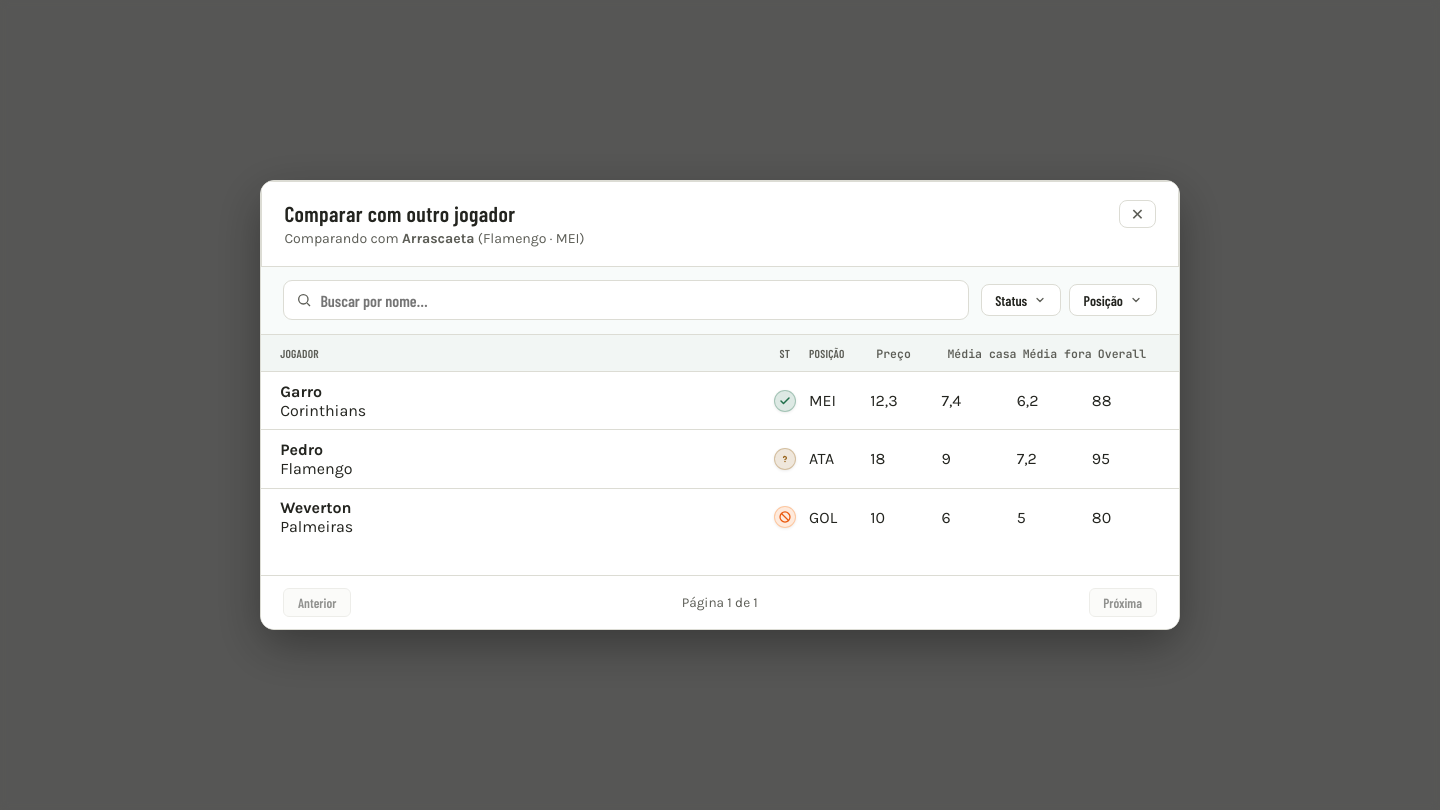
Scenario: ModalCompararJogador › desmarcar uma posição remove somente ela, mantendo as demais selecionadas
expect the text "Garro" is shown: met, box [280,382,322,401]
Click the button "Posição".
click(1113, 300)  # box [1069,284,1157,316]
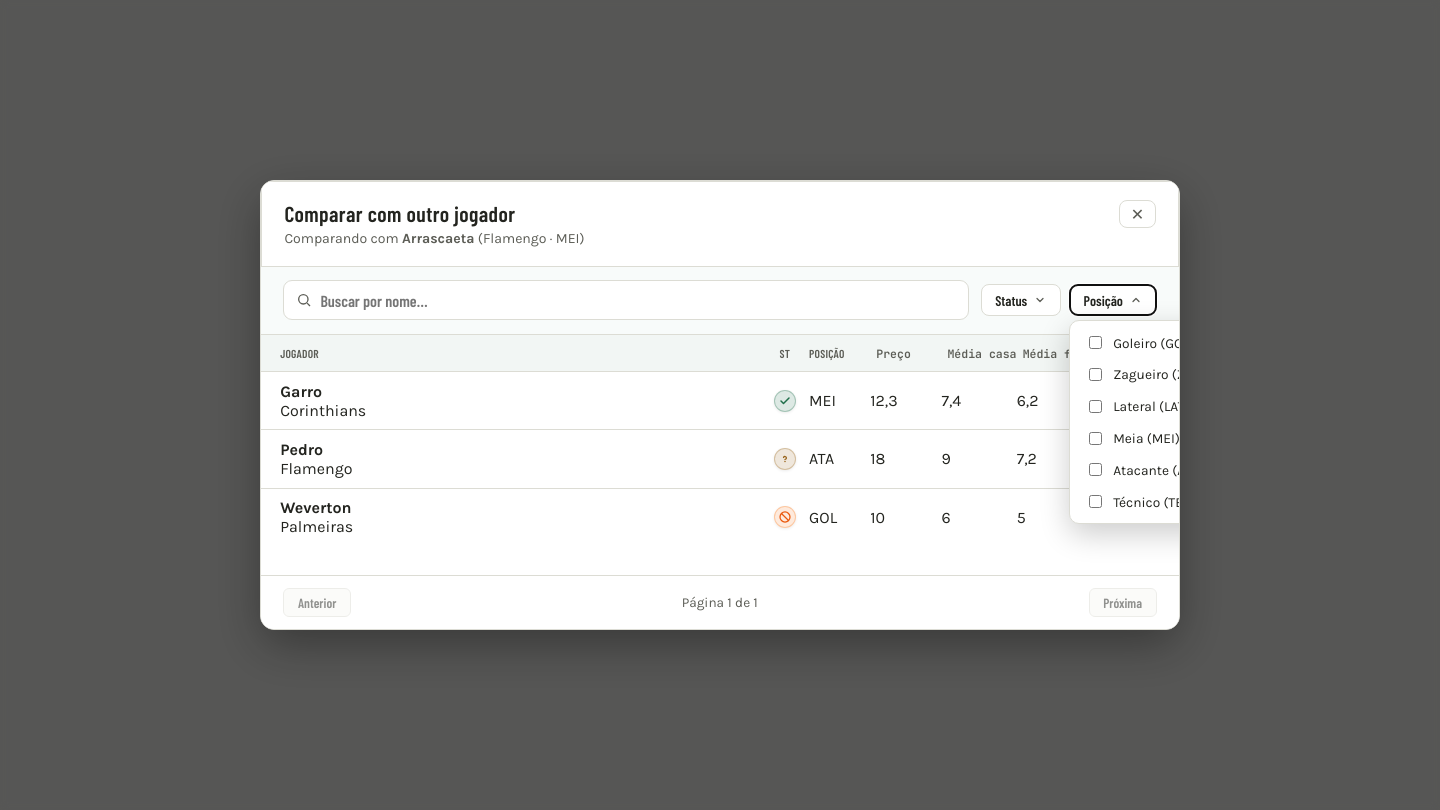
Click the option "Goleiro (GOL)".
click(1142, 343)  # box [1089,335,1194,351]
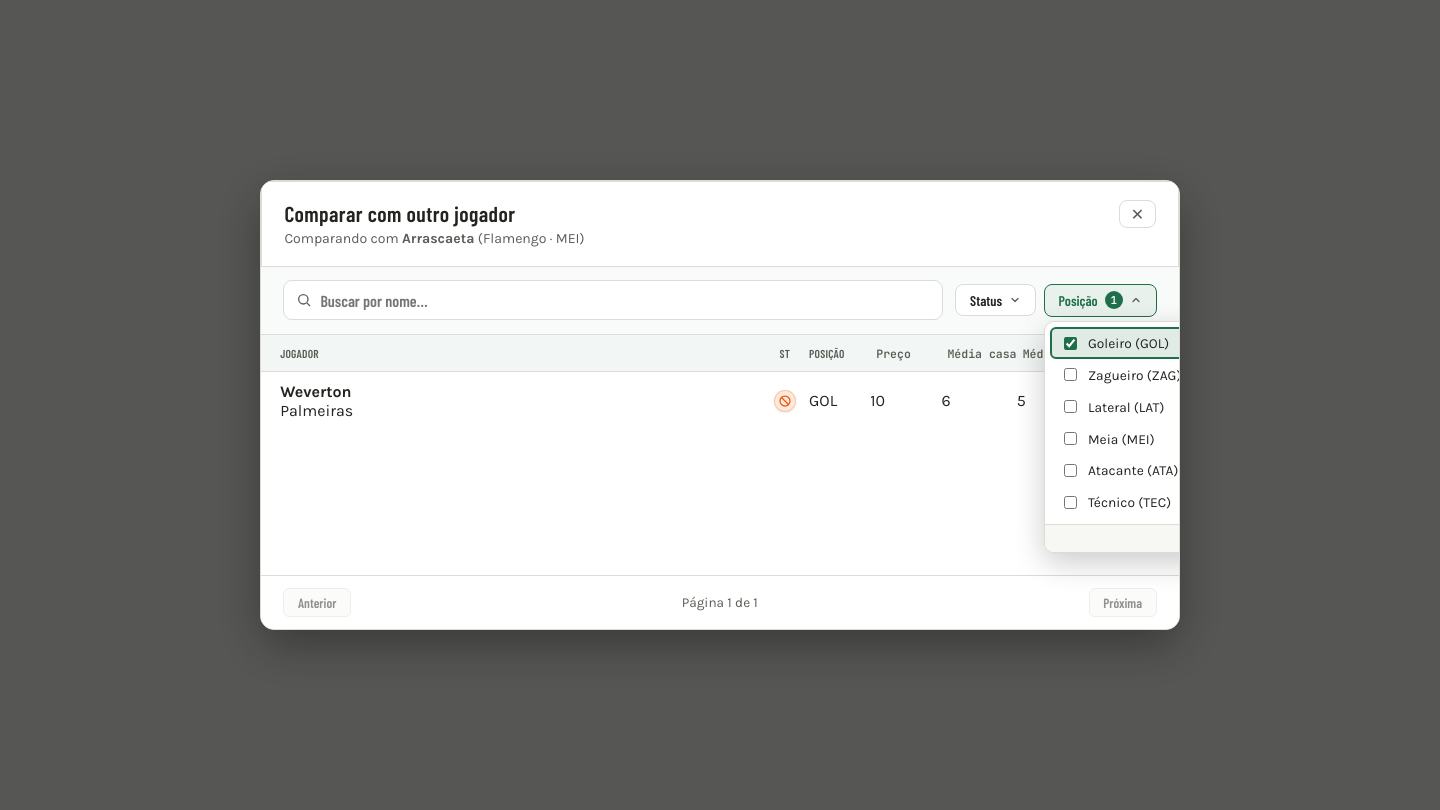
Click the option "Atacante (ATA)".
click(1121, 470)  # box [1064,462,1178,478]
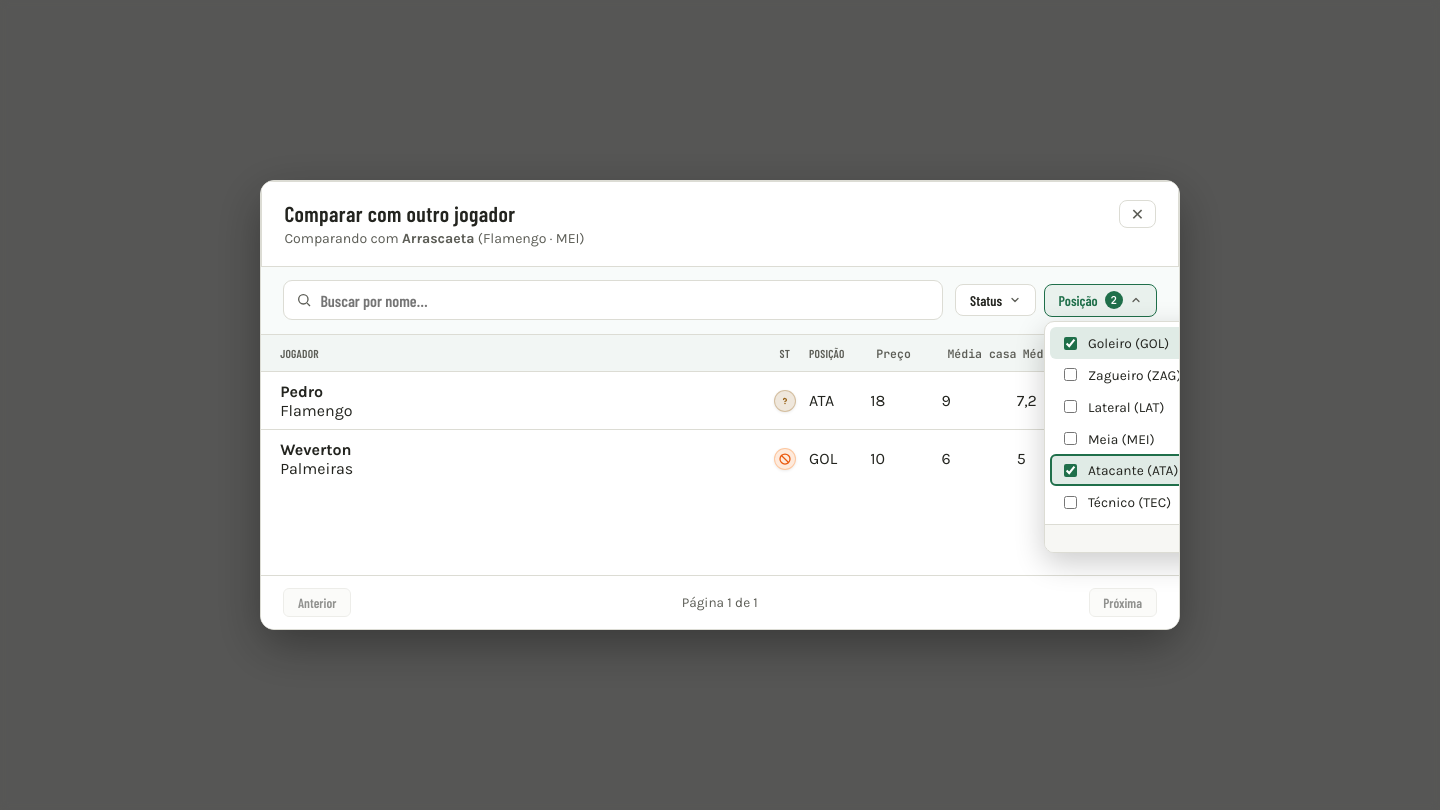
expect the text "Weverton" is shown: met, box [280,440,352,459]
expect the text "Pedro" is shown: met, box [280,382,323,401]
Desmarca apenas GOL
Click the option "Goleiro (GOL)".
click(1139, 343)  # box [1050,327,1227,359]
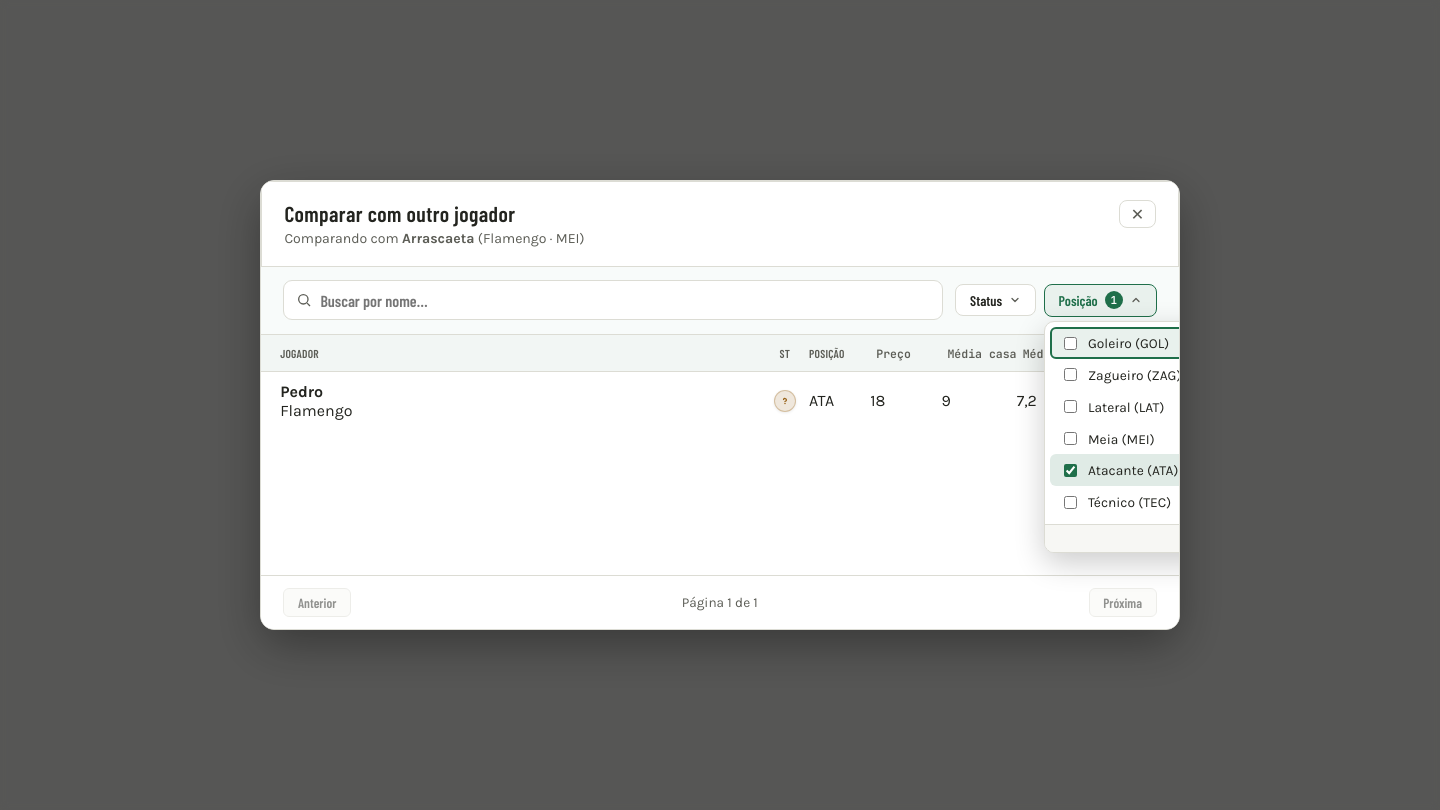
expect the text "Pedro" is shown: met, box [280,382,323,401]
expect the button "Weverton" is gone: met
